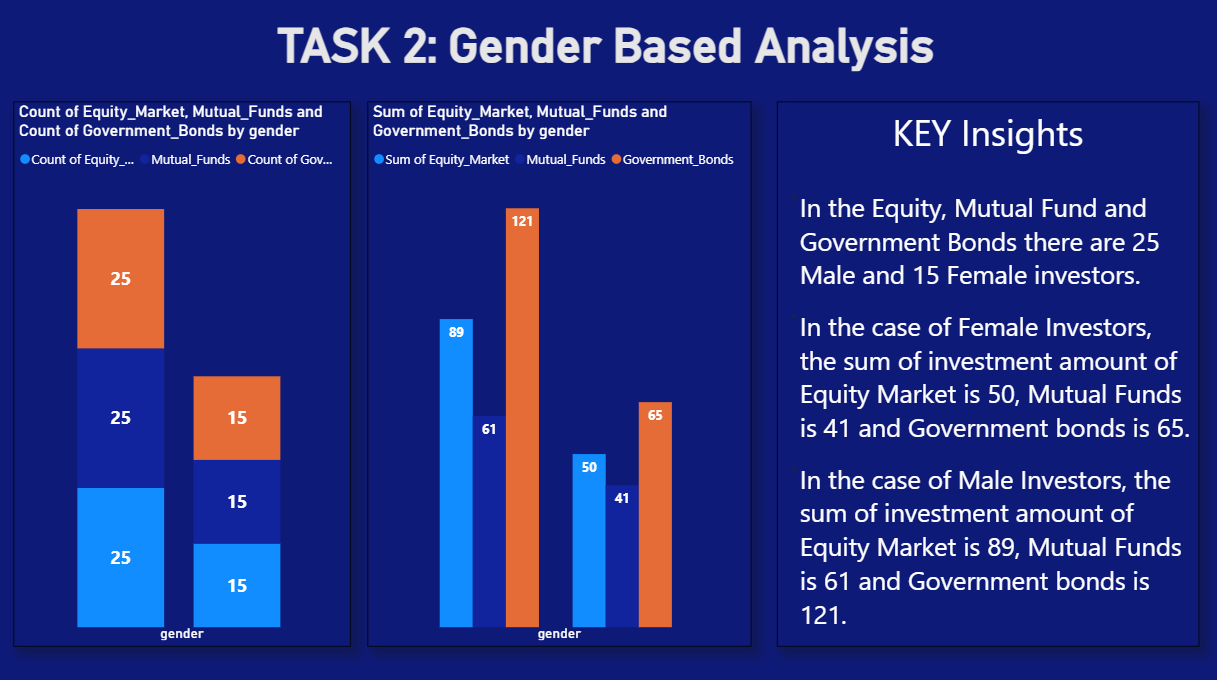

This screenshot's page, from the dashboard's own definition file:
{"tool":"powerbi","page":{"name":"Task 2","canvas":[1280,720],"ordinal":1},"visuals":[{"type":"textbox","title":"TASK 2: Gender Based Analysis","box":[21.3,26.9,1237.3,62.4],"z":0},{"type":"columnChart","fields":{"Category":["Data_set 2.gender"],"Y":["CountNonNull(Data_set 2.Equity_Market)","CountNonNull(Data_set 2.Mutual_Funds)","CountNonNull(Data_set 2.Government_Bonds)"]},"box":[23.5,114.2,351.1,567.8],"z":1000},{"type":"clusteredColumnChart","fields":{"Category":["Data_set 2.gender"],"Y":["Sum(Data_set 2.Equity_Market)","Sum(Data_set 2.Mutual_Funds)","Sum(Data_set 2.Government_Bonds)"]},"box":[393.1,114.2,399.8,567.8],"z":2000},{"type":"textbox","box":[819.7,114.2,440.1,567.8],"z":3000}]}

Visuals, with their boxes in screenshot pixels (x1, y1, x2, y2), scaled from the page's 1280x720 canvas onto the 1217x680 screenshot:
"TASK 2: Gender Based Analysis" textbox: 20 25 1197 84
columnChart - Data_set 2.gender x CountNonNull(Data_set 2.Equity_Market): 22 108 356 644
clusteredColumnChart - Data_set 2.gender x Sum(Data_set 2.Equity_Market): 374 108 754 644
textbox: 779 108 1198 644
